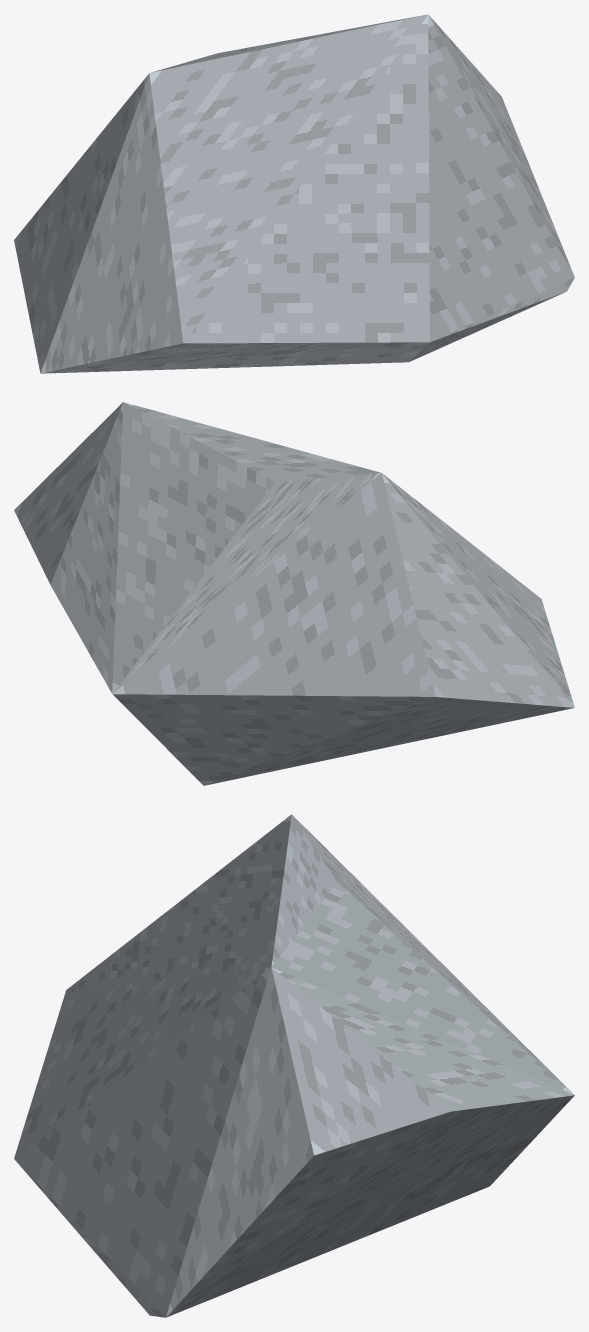
The model's file is mc_steel_chunk.glb.
3 renders of one model, top to bottom at view 1: azimuth 30°, elevation 25°; view 2: azimuth 150°, elevation 25°; view 3: azimuth 270°, elevation 25°, orthographic. The views are drawn at different scales.
Parts seen in each view (by area): view 1: block_irregular metal; view 2: block_irregular metal; view 3: block_irregular metal.
Boxes of the visible parts, left/top/right/bottom form: block_irregular metal: left=14, top=14, right=574, bottom=373; block_irregular metal: left=14, top=402, right=574, bottom=785; block_irregular metal: left=14, top=814, right=574, bottom=1317.
Size of the model in its own units: 0.0716 by 0.0396 by 0.0576.
Materials: 1 (1 with a texture image).
